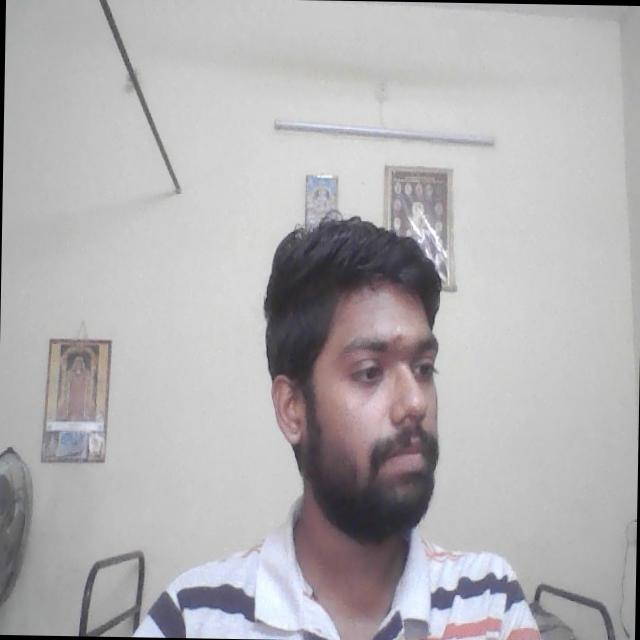Focused: (288, 300, 443, 516)
